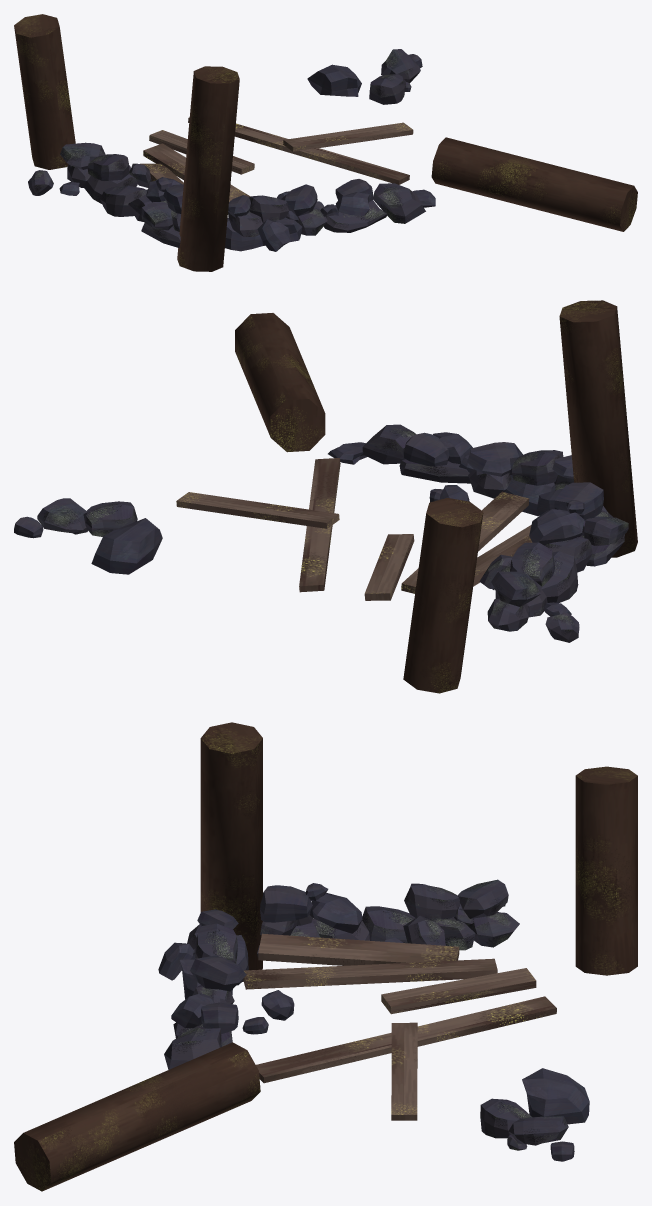
File: Ruins01.fbx
3 views of the same model, one above another, from view 1: azimuth 30°, elevation 25°; view 2: azimuth 150°, elevation 25°; view 3: azimuth 270°, elevation 25° (orthographic). The views are drawn at different scales.
Parts seen in each view (by area): view 1: pillars_01, stone_wall_02, stone_wall_01, Ruins01, stone_wall_03; view 2: pillars_01, stone_wall_01, stone_wall_02, Ruins01, stone_wall_03; view 3: pillars_01, Ruins01, stone_wall_01, stone_wall_02, stone_wall_03.
Boxes of the visible parts, x1,y1,x2,y2 form: pillars_01: [14, 14, 637, 271]; stone_wall_02: [225, 179, 435, 251]; stone_wall_01: [28, 142, 183, 247]; Ruins01: [140, 117, 413, 201]; stone_wall_03: [307, 49, 422, 104]; pillars_01: [235, 300, 637, 693]; stone_wall_01: [479, 482, 628, 642]; stone_wall_02: [328, 424, 573, 516]; Ruins01: [176, 458, 532, 600]; stone_wall_03: [14, 498, 162, 574]; pillars_01: [14, 722, 637, 1191]; Ruins01: [243, 933, 556, 1120]; stone_wall_01: [257, 879, 519, 957]; stone_wall_02: [158, 909, 294, 1069]; stone_wall_03: [480, 1068, 589, 1161].
Size of the model in its own units: 9.41 by 3.85 by 8.83.
4 materials, 4 textured.
